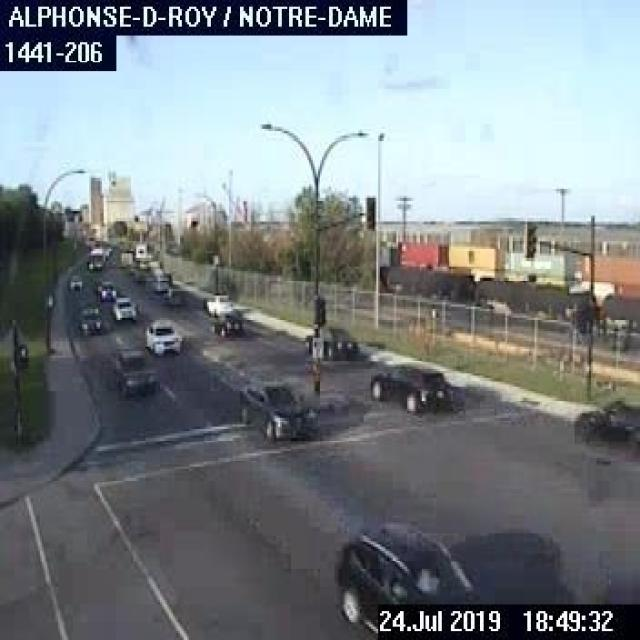bus: (87, 245, 104, 269)
vehicle: (333, 518, 485, 633), (365, 358, 453, 413), (236, 384, 317, 438), (571, 400, 638, 453), (109, 347, 160, 393), (300, 324, 356, 354), (145, 320, 180, 356), (207, 310, 246, 334), (75, 303, 101, 334), (110, 292, 136, 322), (203, 290, 235, 313), (162, 286, 185, 304), (97, 280, 116, 300), (68, 273, 84, 292), (150, 274, 168, 290)
